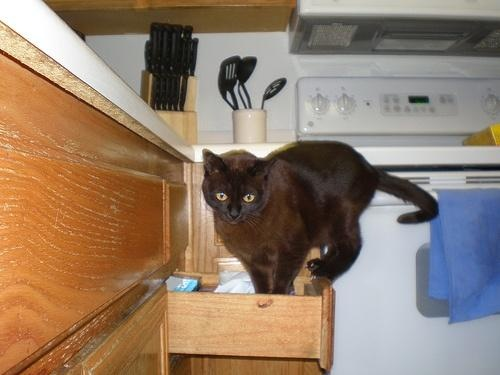cat: (201, 140, 440, 296)
